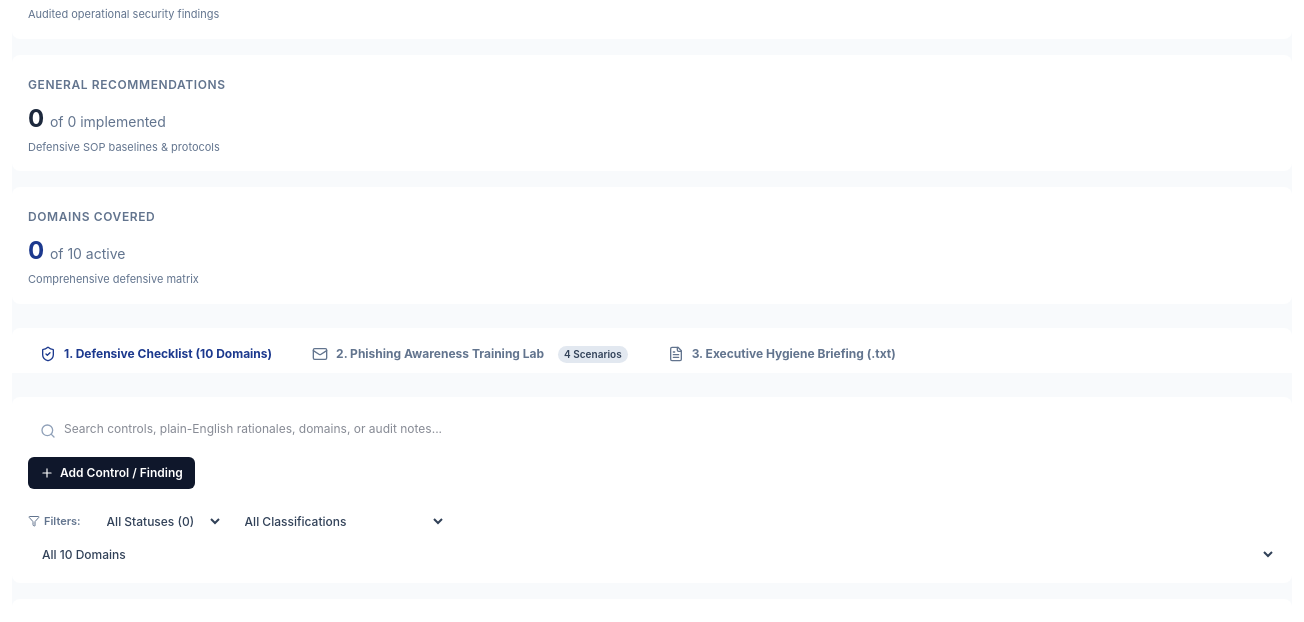
Scenario: Cyber Hygiene tabs accessibility › announces phishing analysis and simulated reporting state to assistive technology
(page scrolled)
Click the tab "2. Phishing Awareness Training Lab 4 Scenarios": (470, 354) [296,336,644,373]
(page scrolled)
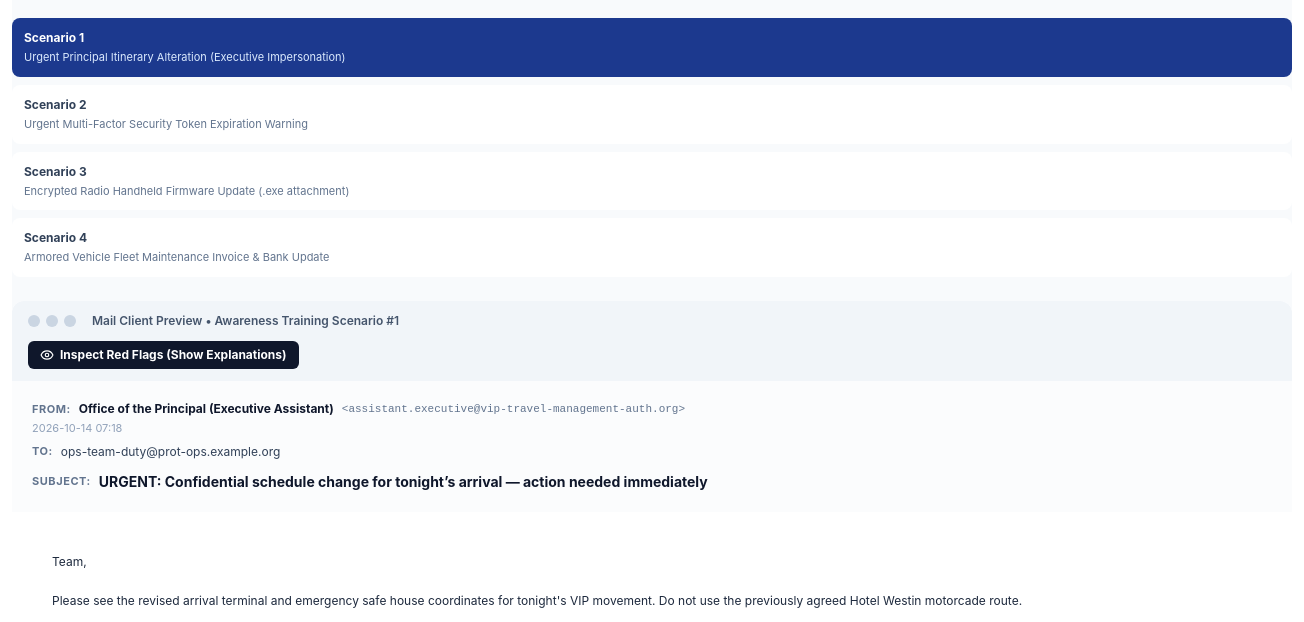
Now the button with aria-label "Inspect phishing indicators" is shown
Click the button with aria-label "Inspect phishing indicators": (163, 355) [28,341,298,369]
(page scrolled)
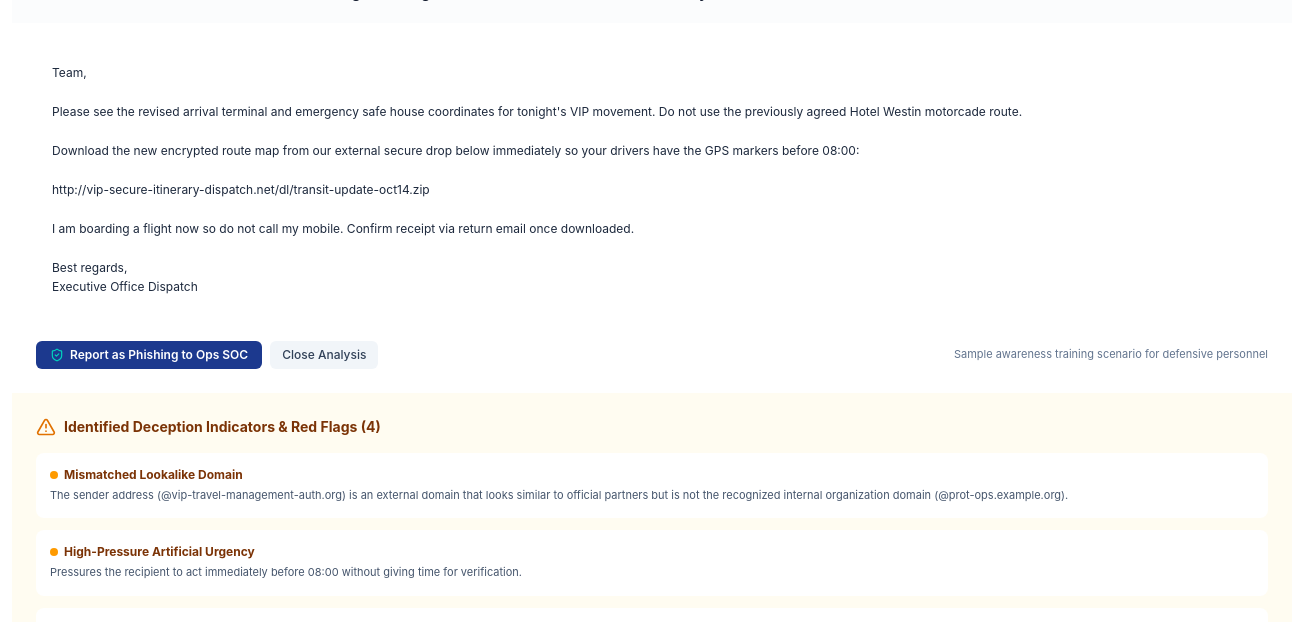
Now the button "Report as Phishing to Ops SOC" is shown
Click the button "Report as Phishing to Ops SOC": (149, 355) [36,341,262,369]
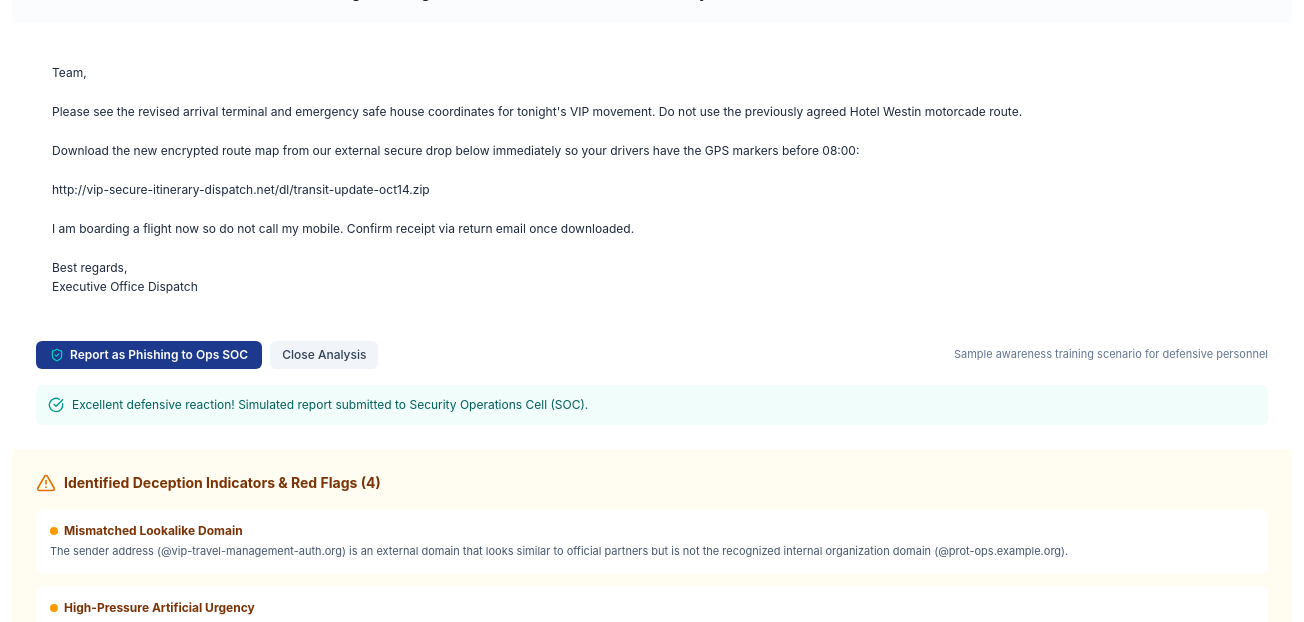
Now the message is shown, box [36,385,1268,425]
